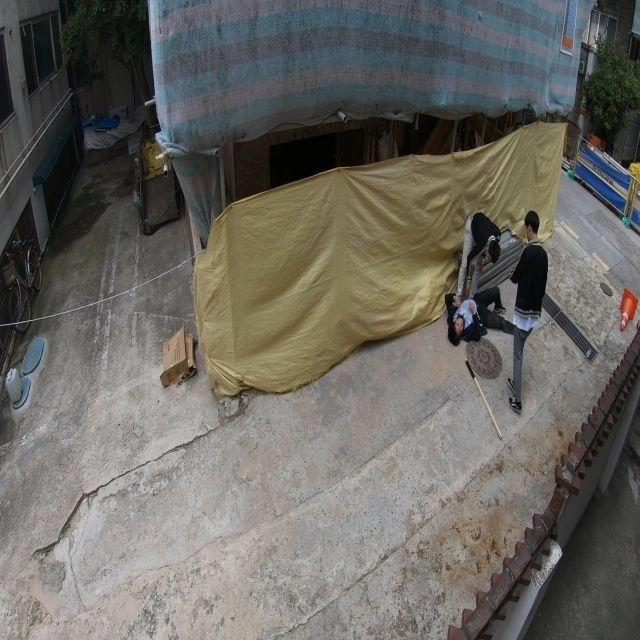fight: (442, 204, 550, 422)
